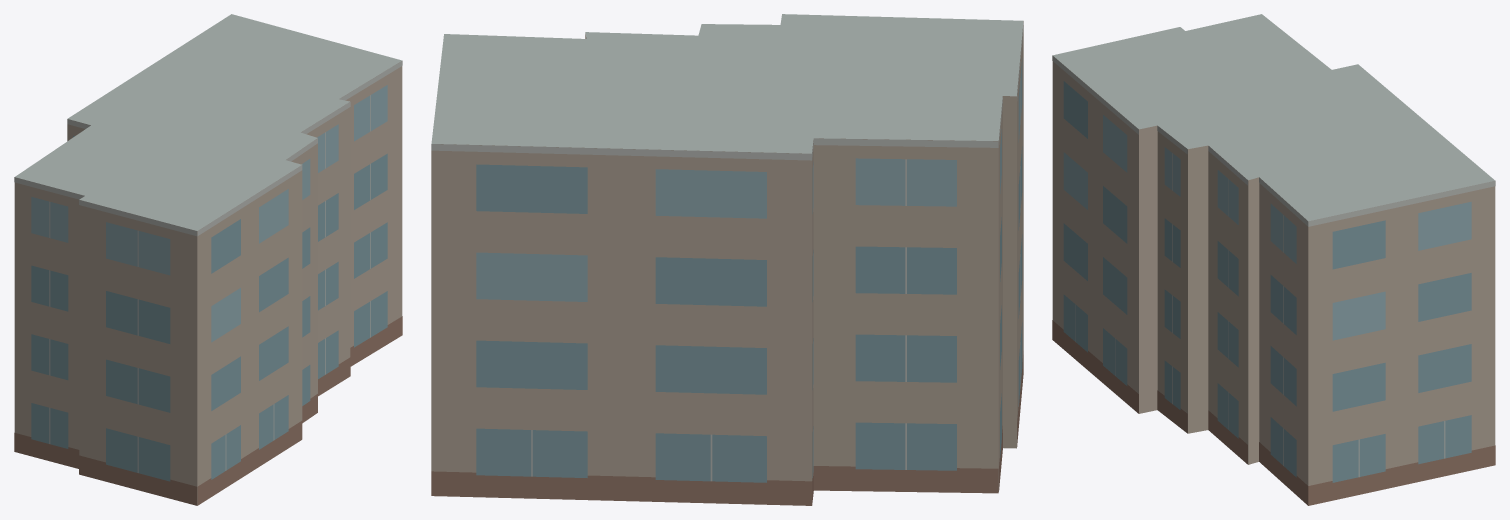
File: survey-upis-32683034.glb
The picture shows the model from 3 angles, left to right: view 1: azimuth 30°, elevation 25°; view 2: azimuth 150°, elevation 25°; view 3: azimuth 270°, elevation 25°; orthographic projection. The views are drawn at different scales.
Visible parts, largest first — view 1: survey-upis-32683034.tmp; view 2: survey-upis-32683034.tmp; view 3: survey-upis-32683034.tmp.
Part boxes in pixels (x1,y1,x2,y2): survey-upis-32683034.tmp: (14, 14, 402, 505); survey-upis-32683034.tmp: (431, 14, 1023, 505); survey-upis-32683034.tmp: (1052, 14, 1495, 505).
Bounding box in the file's own units: 19.7 × 12.6 × 17.79.
